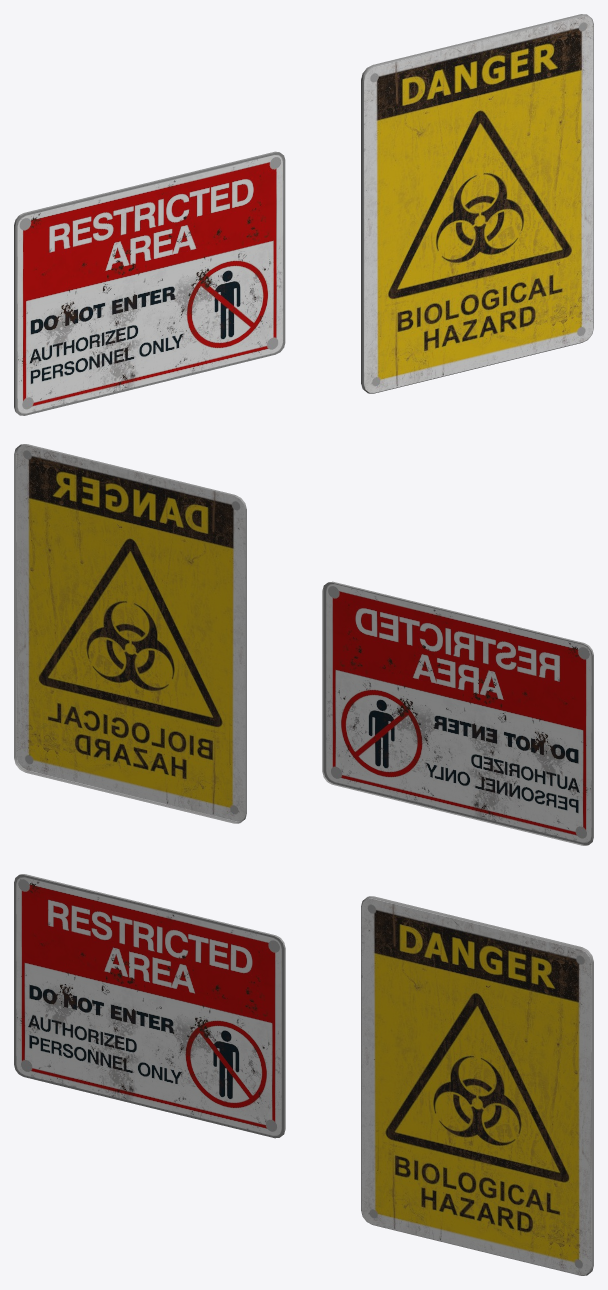
The model's file is warning_signs__virus_laboratory.glb.
3 views of the same model, one above another, from view 1: azimuth 30°, elevation 25°; view 2: azimuth 150°, elevation 25°; view 3: azimuth 330°, elevation 25° (orthographic).
Visible parts, largest first — view 1: pCube1.001, pCube1; view 2: pCube1.001, pCube1; view 3: pCube1.001, pCube1.
Part boxes in pixels (box(x1,y1,x2,y2)): pCube1.001: box(361, 14, 593, 393); pCube1: box(14, 151, 285, 415); pCube1.001: box(14, 444, 246, 823); pCube1: box(322, 581, 593, 845); pCube1.001: box(361, 896, 593, 1275); pCube1: box(14, 874, 285, 1138).
Size of the model in its own units: 0.7495 by 0.4056 by 0.00444.
Materials: 2 (2 with a texture image).
